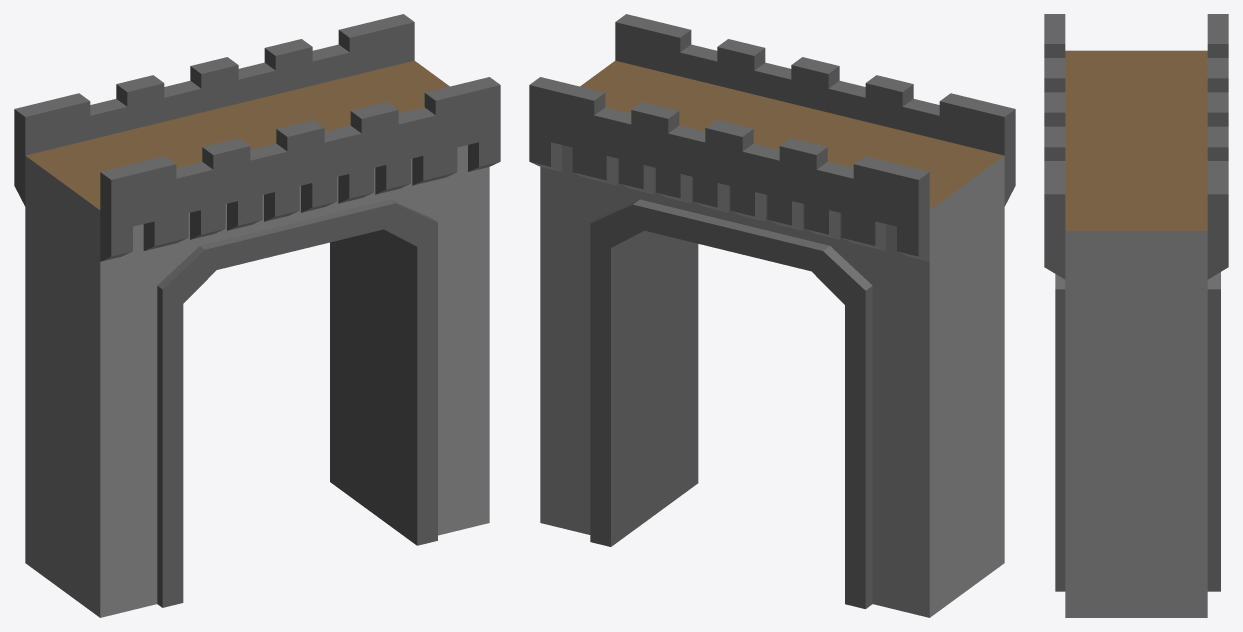
The model's file is GateHouse.fbx.
3 views of the same model, side by side, from view 1: azimuth 30°, elevation 25°; view 2: azimuth 150°, elevation 25°; view 3: azimuth 270°, elevation 25° (orthographic). The views are drawn at different scales.
Visible parts, largest first — view 1: polySurface1; view 2: polySurface1; view 3: polySurface1.
Part boxes in pixels (left/top/right/bottom): polySurface1: left=14, top=14, right=500, bottom=617; polySurface1: left=529, top=14, right=1015, bottom=617; polySurface1: left=1044, top=14, right=1228, bottom=617.
Bounding box in the file's own units: 3 × 3.28 × 1.29.
